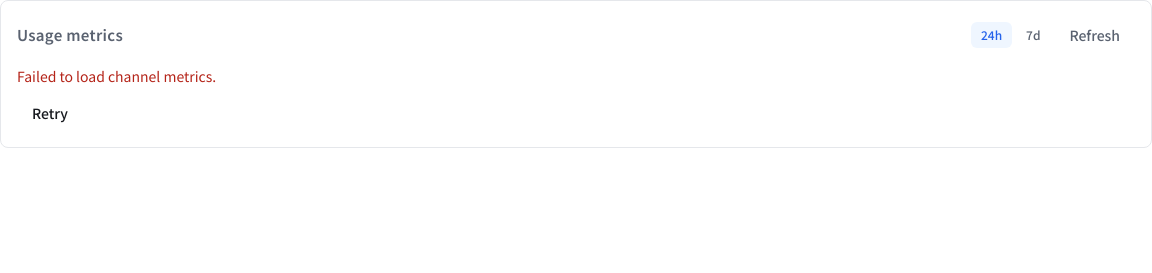
Test: ChannelMetricsPanel › shows an inline error and retries
The width and height of the screenshot is (1152, 273).
expect the text "Failed to load channel metrics." is shown: met, box [17, 65, 216, 87]
Click the button "Retry" at (50, 113), box [17, 95, 83, 131]
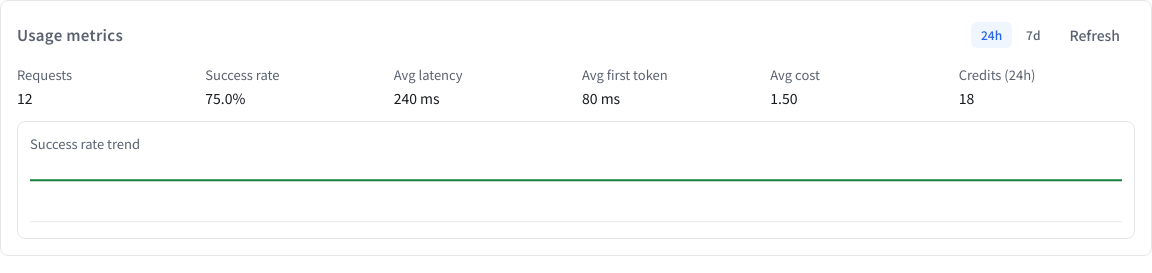
expect the heading "Usage metrics" is shown: met, box [17, 24, 123, 46]
expect the text "75.0%" is shown: met, box [205, 88, 245, 108]
